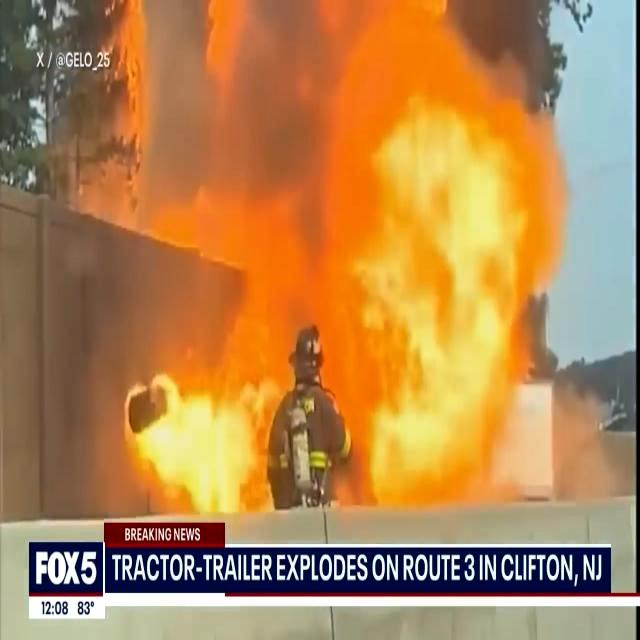fire: (115, 6, 557, 507)
